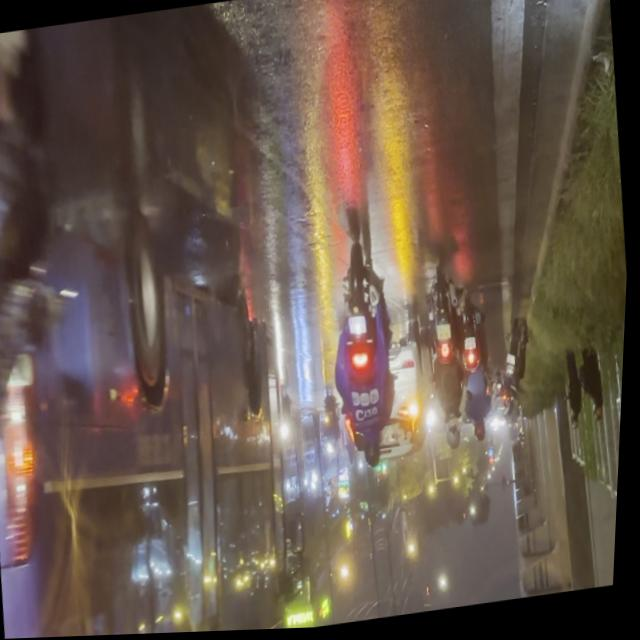helmet: (363, 435, 388, 474), (447, 420, 467, 455)
licenseplate: (0, 21, 125, 640), (321, 238, 414, 477), (418, 257, 486, 455)
nohelmet: (349, 317, 370, 340), (438, 325, 454, 342)
